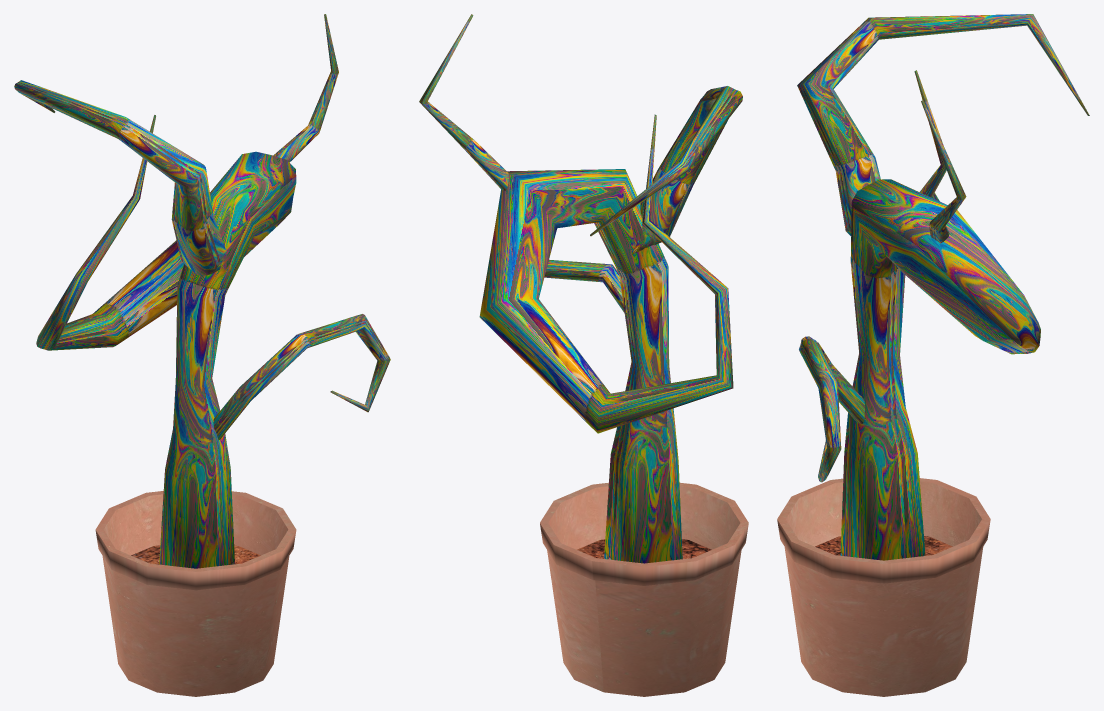
The model's file is SpikyOilPlant.fbx.
3 renders of one model, left to right at view 1: azimuth 30°, elevation 25°; view 2: azimuth 150°, elevation 25°; view 3: azimuth 270°, elevation 25°, orthographic. The views are drawn at different scales.
Parts seen in each view (by area): view 1: BezierCurve, Cylinder; view 2: BezierCurve, Cylinder; view 3: BezierCurve, Cylinder.
Boxes of the visible parts, x1,y1,x2,y2 form: BezierCurve: (14,14,390,568); Cylinder: (95,491,296,696); BezierCurve: (419,14,742,563); Cylinder: (540,482,748,696); BezierCurve: (797,14,1089,560); Cylinder: (777,478,990,696).
Size of the model in its own units: 0.4626 by 0.3907 by 0.8801.
